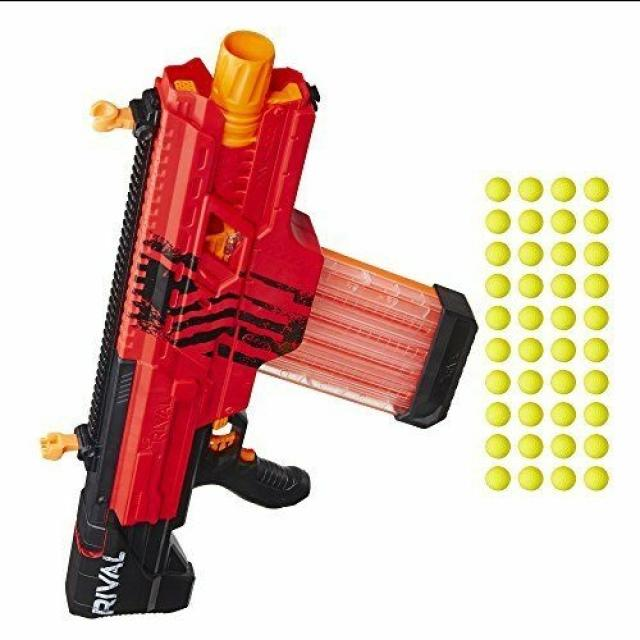Nerf gun: (35, 26, 485, 619)
